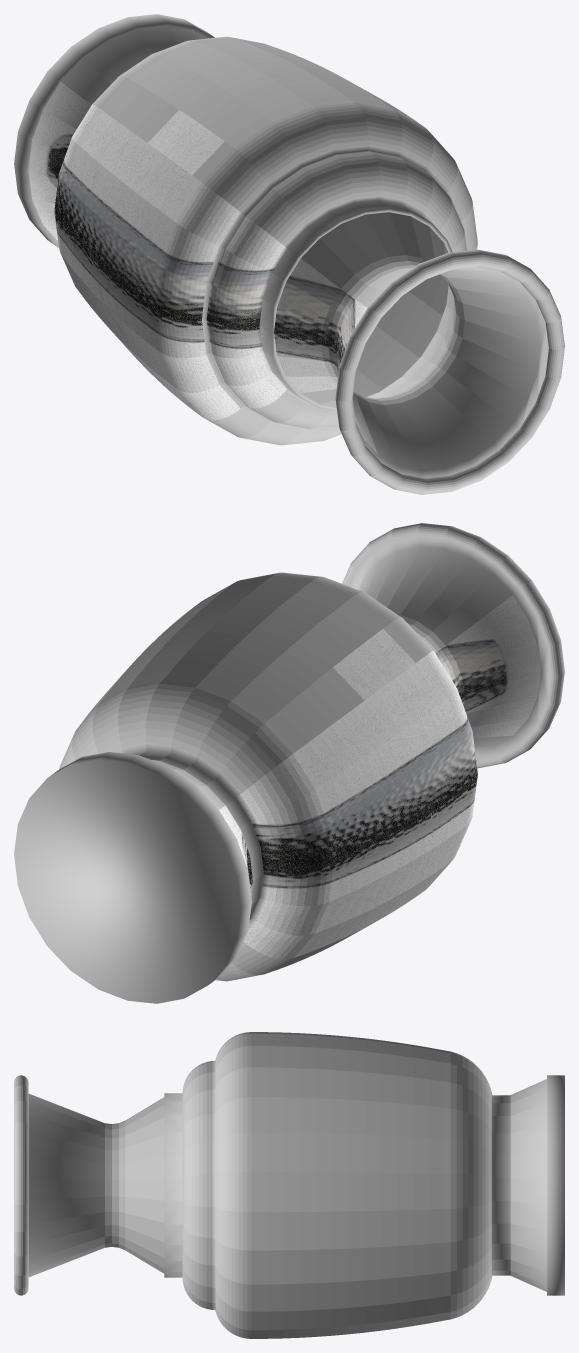
Rendered from model_scale.obj.
3 views of the same model, one above another, from view 1: azimuth 30°, elevation 25°; view 2: azimuth 150°, elevation 25°; view 3: azimuth 270°, elevation 25° (orthographic). The views are drawn at different scales.
Parts seen in each view (by area): view 1: mesh1_mesh1-geometry; view 2: mesh1_mesh1-geometry; view 3: mesh1_mesh1-geometry.
Part boxes in pixels (left/top/right/bottom): mesh1_mesh1-geometry: left=14, top=14, right=564, bottom=494; mesh1_mesh1-geometry: left=14, top=523, right=564, bottom=1003; mesh1_mesh1-geometry: left=14, top=1032, right=564, bottom=1338.
Size of the model in its own units: 0.0723 by 0.0723 by 0.1294.
